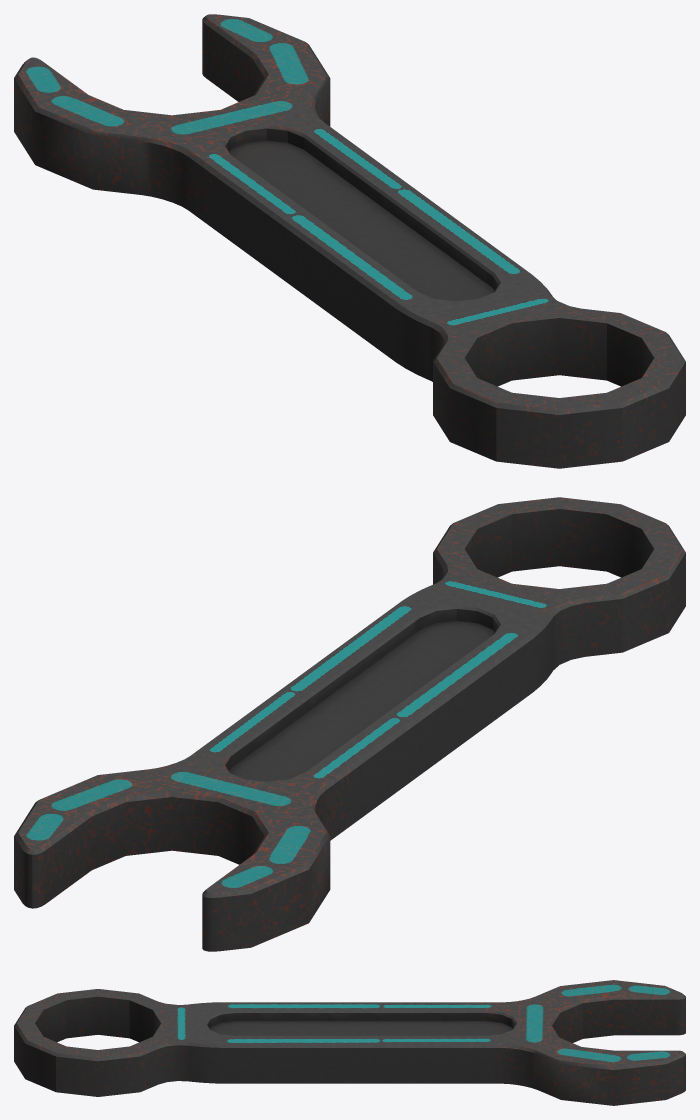
File: wrench.fbx
3 views of the same model, one above another, from view 1: azimuth 30°, elevation 25°; view 2: azimuth 150°, elevation 25°; view 3: azimuth 270°, elevation 25° (orthographic). The views are drawn at different scales.
Visible parts, largest first — view 1: Circle; view 2: Circle; view 3: Circle.
Part boxes in pixels (x1=…): Circle: x1=14, y1=14, x2=685, y2=468; Circle: x1=14, y1=497, x2=685, y2=951; Circle: x1=14, y1=980, x2=685, y2=1105.
Size of the model in its own units: 2 by 0.4 by 6.39.
